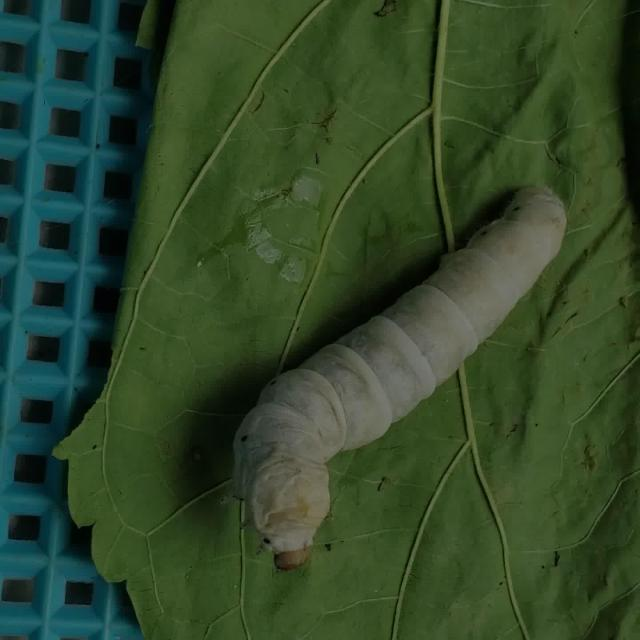Grasserie: (197, 159, 584, 587)
